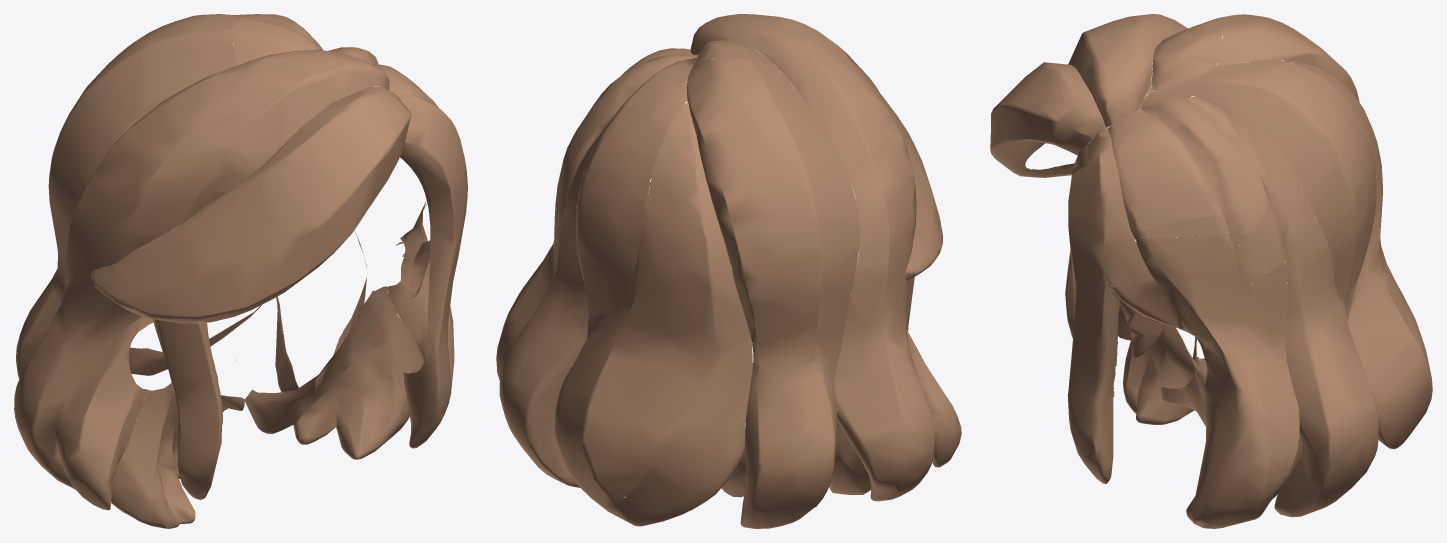
Rendered from hair_01.glb.
3 renders of one model, left to right at view 1: azimuth 30°, elevation 25°; view 2: azimuth 150°, elevation 25°; view 3: azimuth 270°, elevation 25°, orthographic. The views are drawn at different scales.
Parts seen in each view (by area): view 1: hair; view 2: hair; view 3: hair.
Boxes of the visible parts, x1,y1,x2,y2 form: hair: (14, 14, 467, 528); hair: (496, 14, 961, 528); hair: (990, 14, 1432, 528).
Size of the model in its own units: 0.6064 by 0.6033 by 0.549.
